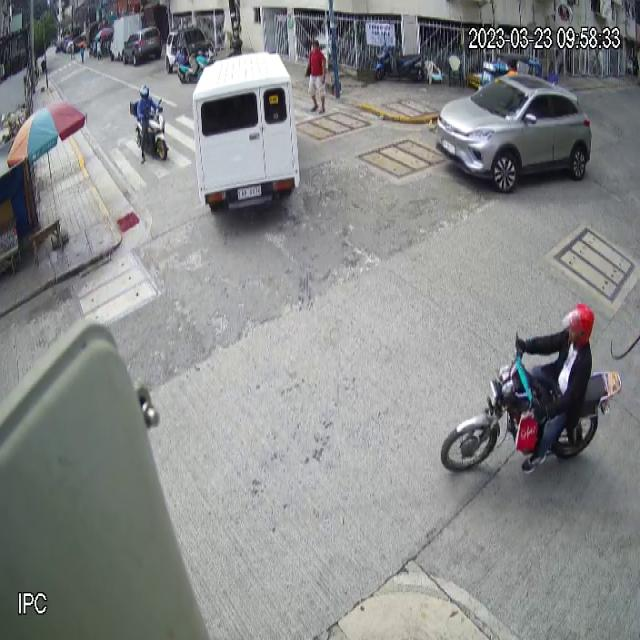Car: (435, 75, 594, 195)
Motorcycle: (441, 328, 623, 477), (129, 96, 174, 161)
Van: (192, 52, 301, 216)
